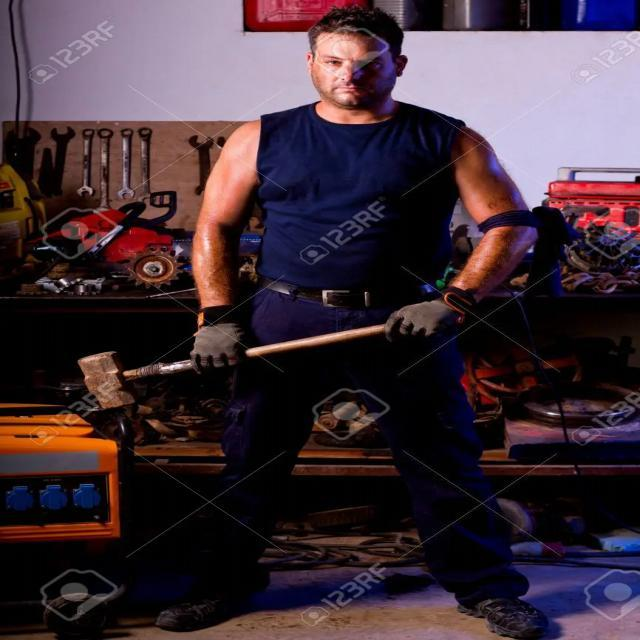hammer: (62, 293, 454, 423)
